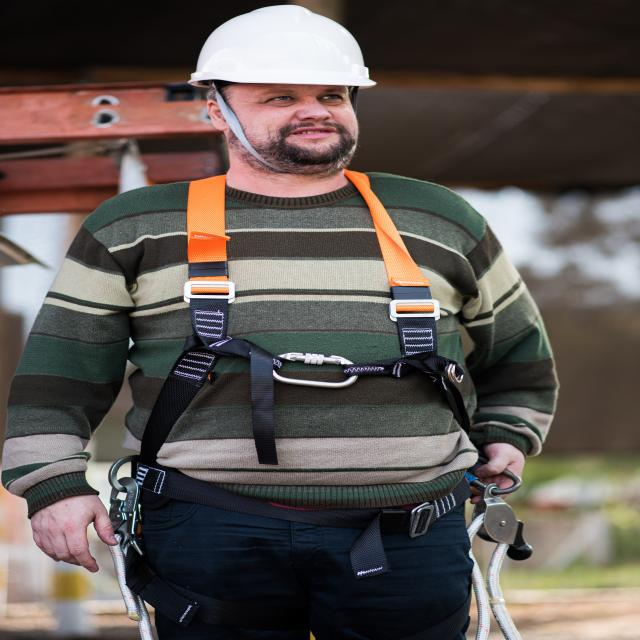capacete: (186, 4, 382, 90)
corda de vida: (99, 164, 532, 640)
